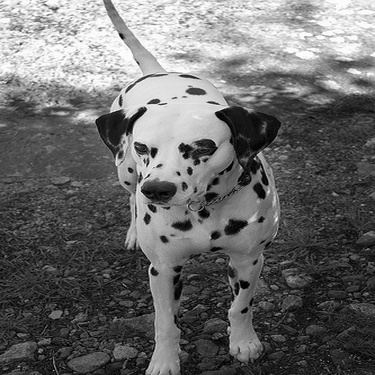dog: (74, 1, 295, 371)
